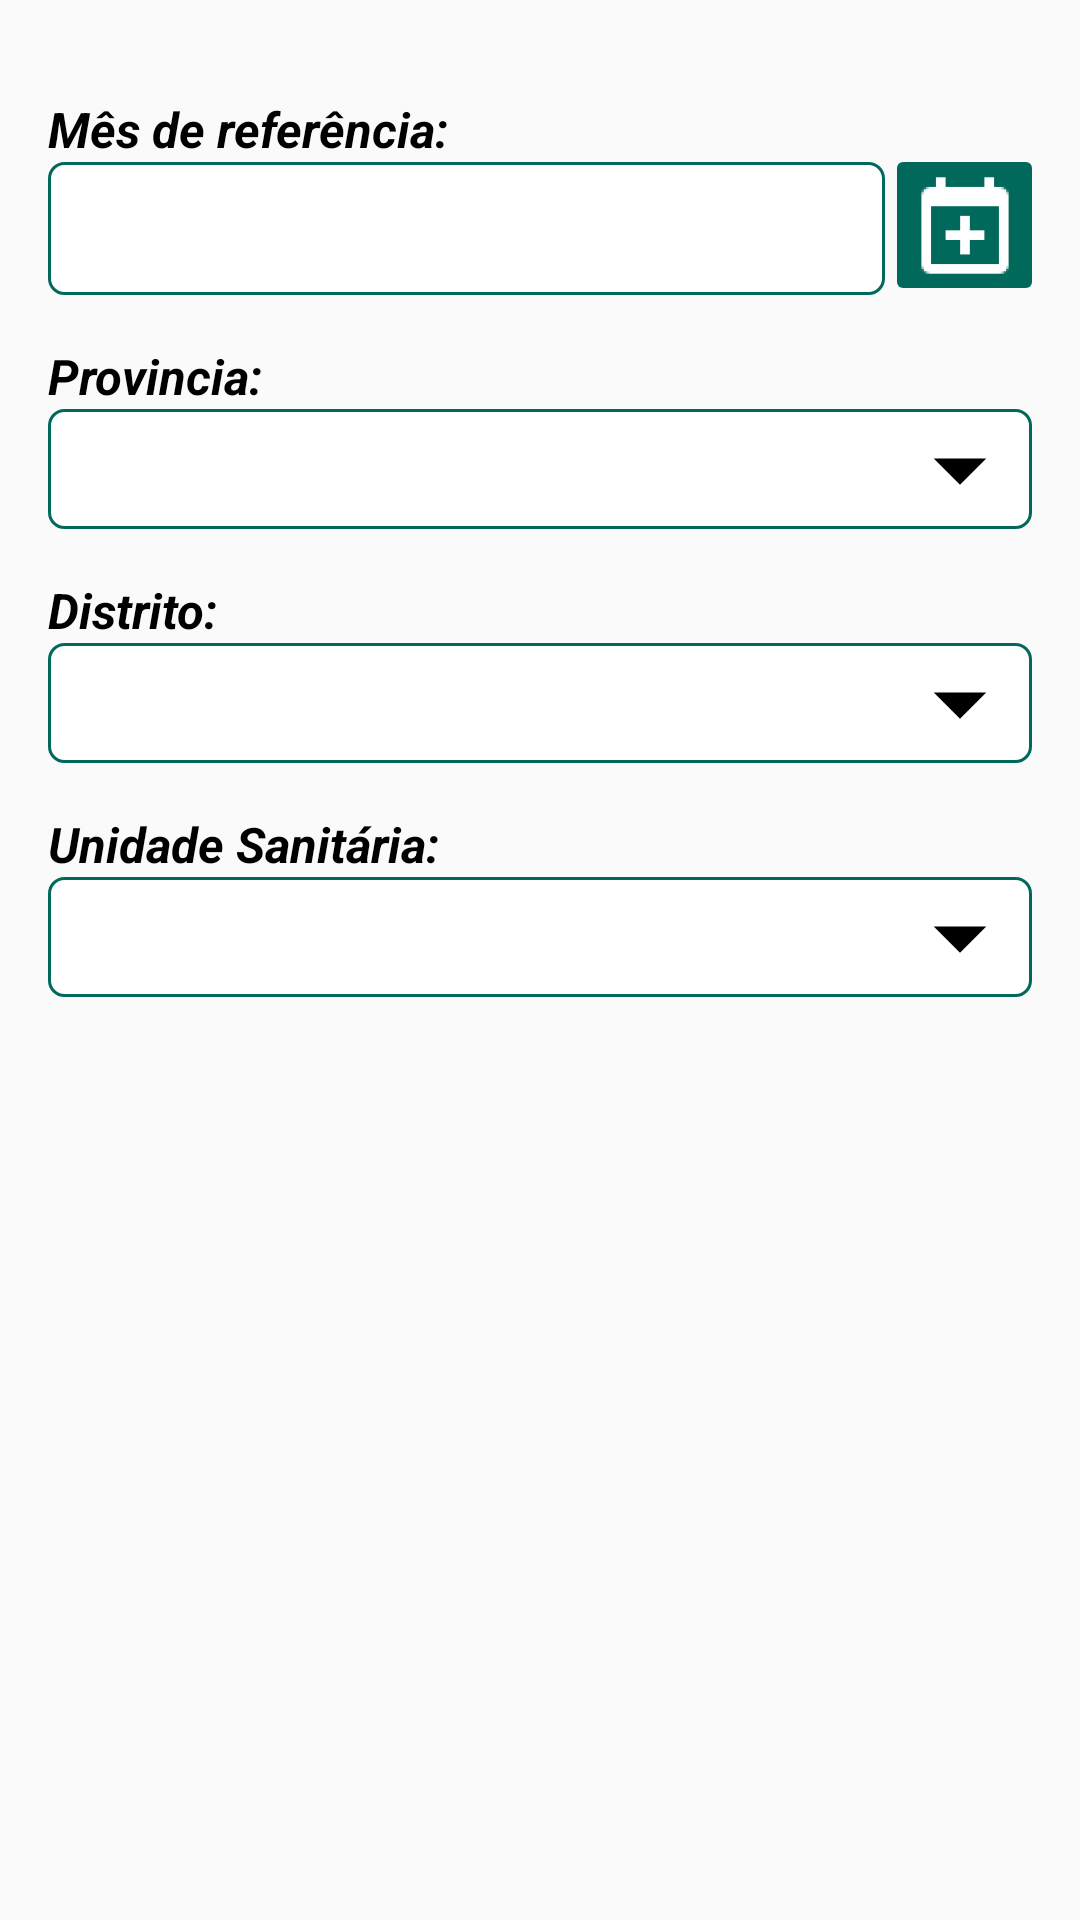

Icons on this 1080×1920 Android screen, each with the point to tap as (x,y):
calendar plus: (964,225)
